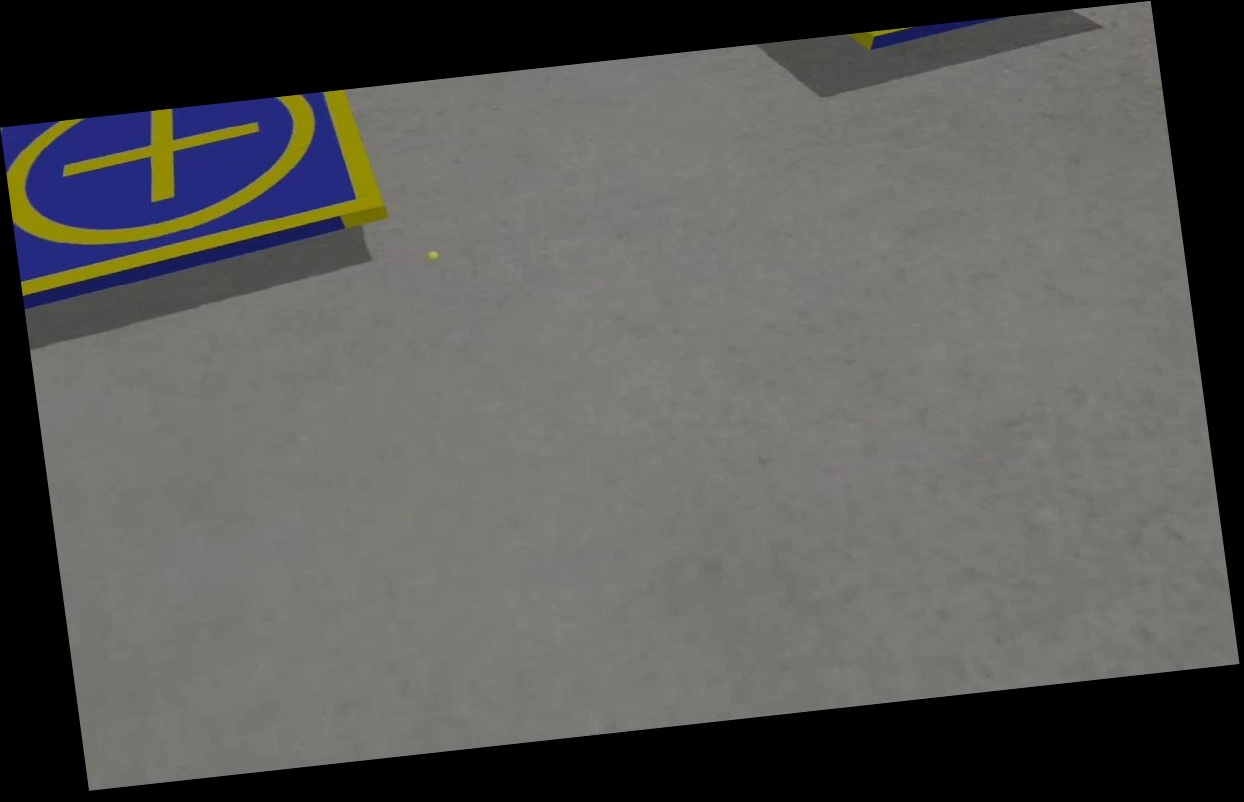small_base: (0, 86, 398, 306)
